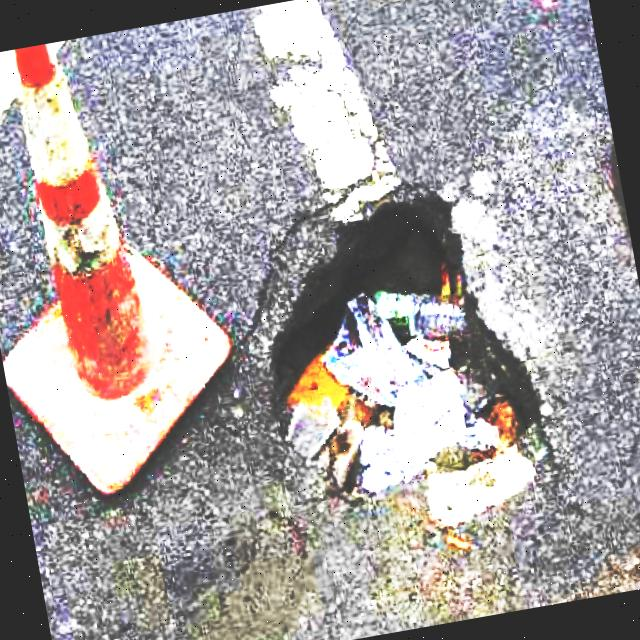pothole: (238, 166, 573, 563)
